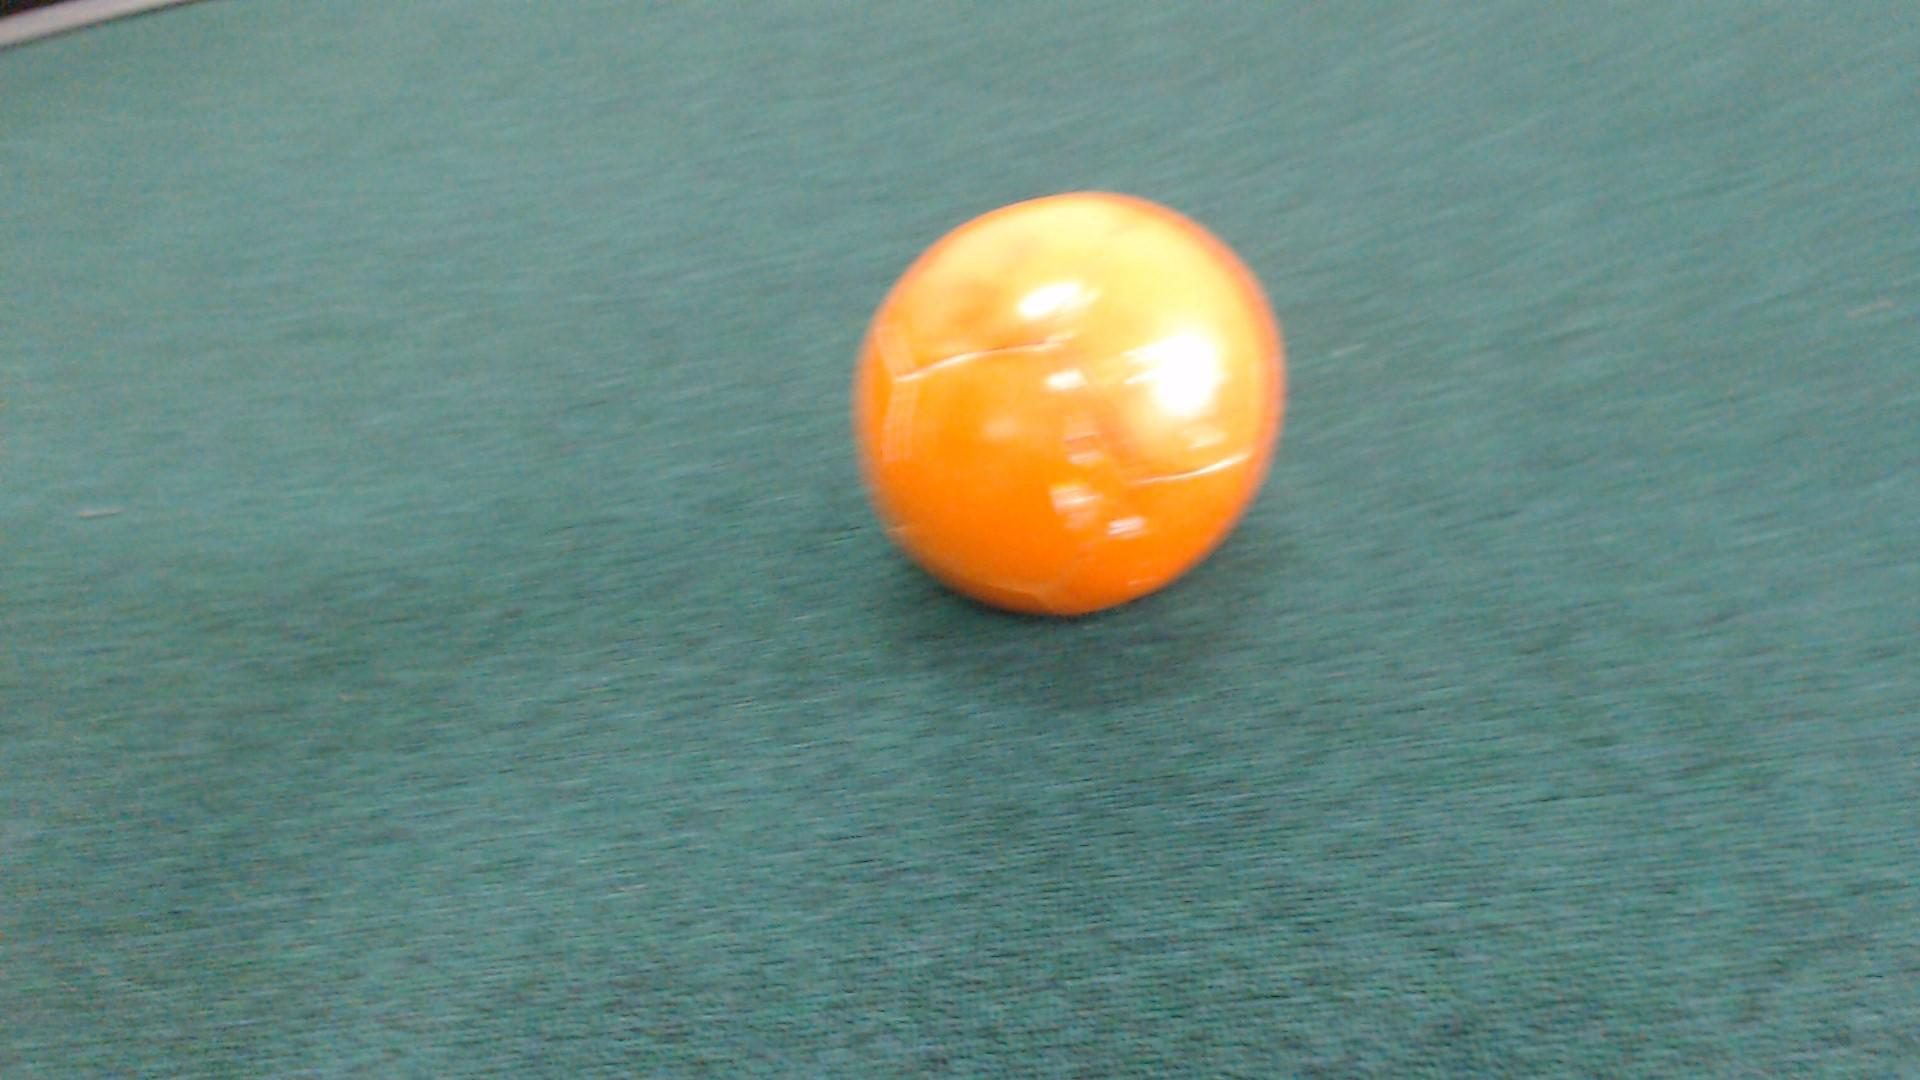bola: (822, 171, 1290, 633)
